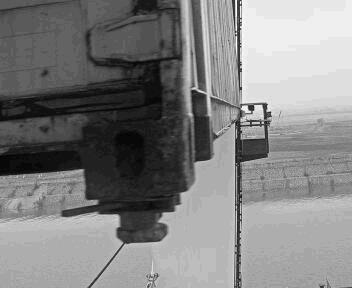twist_lock_1: (199, 124, 227, 144)
